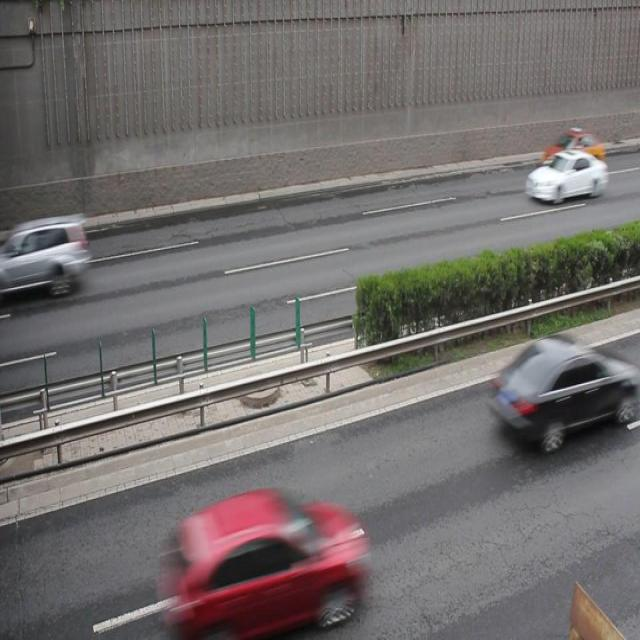car: (162, 490, 362, 640), (491, 332, 624, 453), (12, 216, 88, 295), (523, 152, 604, 206), (542, 128, 602, 172)
